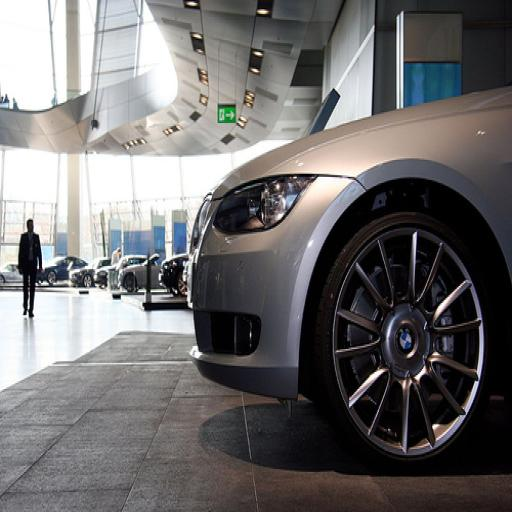person: (17, 218, 43, 320), (112, 244, 120, 264)
